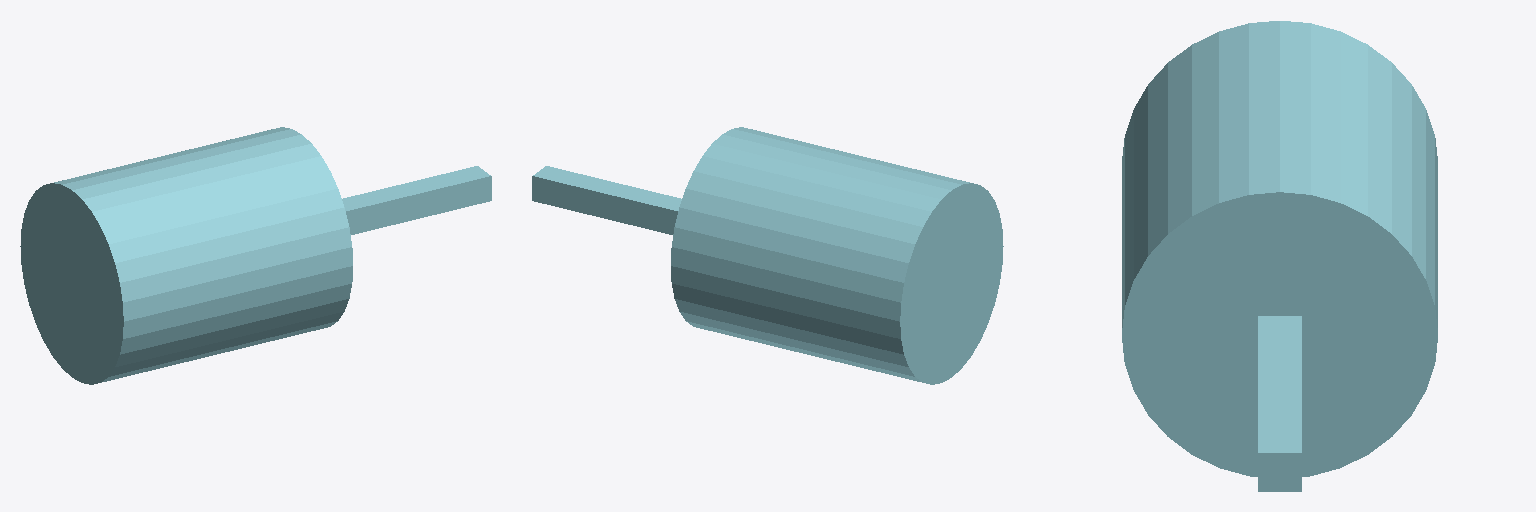
robot.urdf — cylinder_screwdriver_v3014:
<?xml version="1.0"?>
<robot name="cylinder_screwdriver_v3014">

  <link name="cylinder_screwdriver_v3014">
    <!-- Handle -->
    <visual>
      <origin xyz="0 0 0" rpy="0 1.5707963267948966 0"/>
      <geometry>
        <cylinder length="0.09997967207613062" radius="0.03896854353535153"/>
      </geometry>
      <material name="material">
        <color rgba="0.639 0.847 0.882 1.0"/>
      </material>
    </visual>
    <collision>
      <origin xyz="0 0 0" rpy="0 1.5707963267948966 0"/>
      <geometry>
        <cylinder length="0.09997967207613062" radius="0.03896854353535153"/>
      </geometry>
    </collision>

    <!-- Head -->
    <visual>
      <origin xyz="0.08977917957811023 0 0" rpy="0 0 0"/>
      <geometry>
        <box size="0.07957868708008983 0.010585517829500552 0.010438545059553841"/>
      </geometry>
      <material name="material">
        <color rgba="0.639 0.847 0.882 1.0"/>
      </material>
    </visual>
    <collision>
      <origin xyz="0.08977917957811023 0 0" rpy="0 0 0"/>
      <geometry>
        <box size="0.07957868708008983 0.010585517829500552 0.010438545059553841"/>
      </geometry>
    </collision>

    <inertial>
      <density value="400.0"/>
    </inertial>
  </link>

</robot>

--- Render facts (derived) ---
Views: 3 orthographic renders of the robot side by side, from view 1: azimuth 30°, elevation 25°; view 2: azimuth 150°, elevation 25°; view 3: azimuth 270°, elevation 25°.
Model cylinder_screwdriver_v3014 with 1 links and 0 joints (none), rooted at cylinder_screwdriver_v3014, posed all joints at 0.
Links seen in each view (by area): view 1: cylinder_screwdriver_v3014; view 2: cylinder_screwdriver_v3014; view 3: cylinder_screwdriver_v3014.
Link boxes in pixels (<box>): cylinder_screwdriver_v3014: <box>20,127,491,384</box>; cylinder_screwdriver_v3014: <box>532,127,1003,384</box>; cylinder_screwdriver_v3014: <box>1122,21,1437,491</box>.
Bounding box of the posed robot: 0.1796 × 0.0779 × 0.0779 m (x, y, z).
Geometry: primitives only (box / cylinder / sphere), no mesh files.
